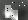person: (11, 8, 18, 20), (6, 6, 12, 19)
